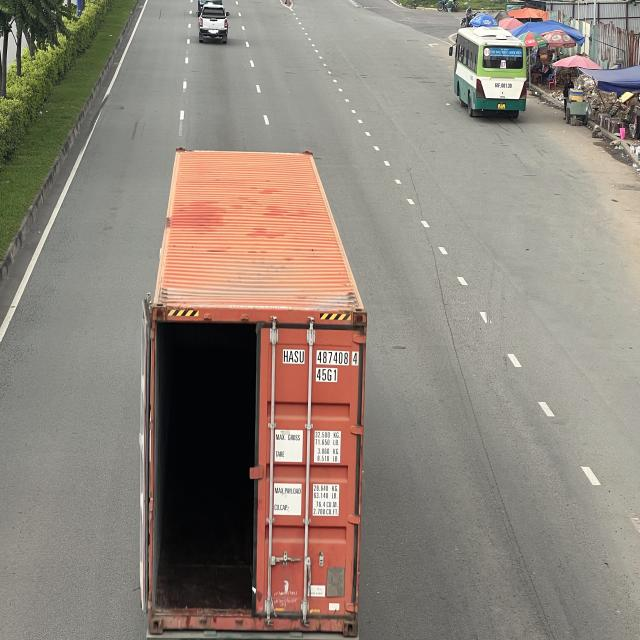car: (198, 0, 230, 42)
coach: (451, 24, 528, 119)
container: (138, 145, 365, 640)
